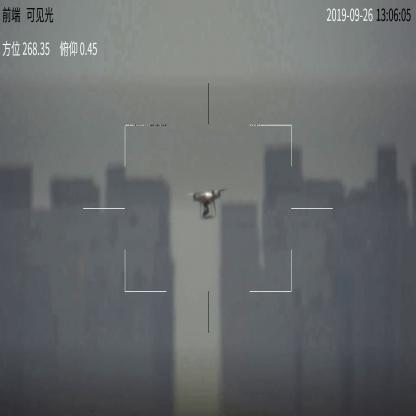uav: (186, 186, 226, 220)
